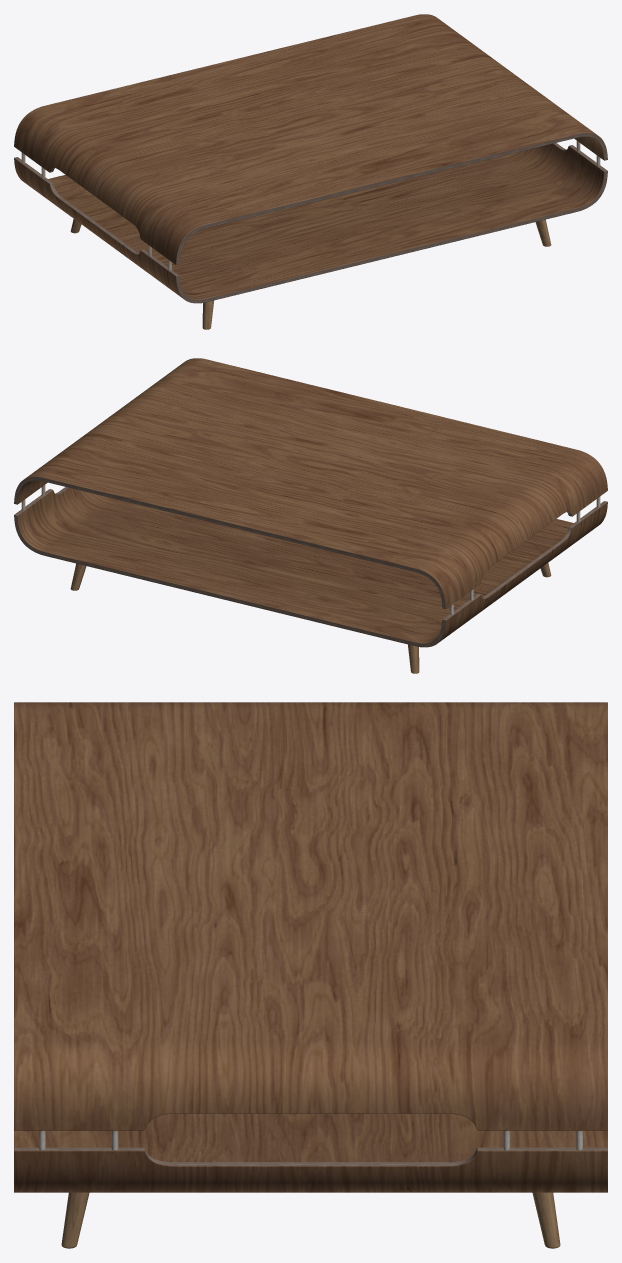
Rendered from Coffee Table2.glb.
3 renders of one model, top to bottom at view 1: azimuth 30°, elevation 25°; view 2: azimuth 150°, elevation 25°; view 3: azimuth 270°, elevation 25°, orthographic. The views are drawn at different scales.
Visible parts, largest first — view 1: RetroTable01_low_RT_RetroTable01_1002_0, RetroTable01_low_RT_RetroTable01_1003_0, RetroTable01_low_RT_RetroTable01_1001_0; view 2: RetroTable01_low_RT_RetroTable01_1002_0, RetroTable01_low_RT_RetroTable01_1003_0, RetroTable01_low_RT_RetroTable01_1001_0; view 3: RetroTable01_low_RT_RetroTable01_1002_0, RetroTable01_low_RT_RetroTable01_1003_0, RetroTable01_low_RT_RetroTable01_1001_0.
Boxes of the visible parts, x1,y1,x2,y2 form: RetroTable01_low_RT_RetroTable01_1002_0: (14,14,607,303); RetroTable01_low_RT_RetroTable01_1003_0: (33,136,604,299); RetroTable01_low_RT_RetroTable01_1001_0: (14,133,607,329); RetroTable01_low_RT_RetroTable01_1002_0: (14,358,607,647); RetroTable01_low_RT_RetroTable01_1003_0: (17,480,588,643); RetroTable01_low_RT_RetroTable01_1001_0: (14,477,607,673); RetroTable01_low_RT_RetroTable01_1002_0: (14,702,607,1192); RetroTable01_low_RT_RetroTable01_1003_0: (14,1113,607,1162); RetroTable01_low_RT_RetroTable01_1001_0: (14,1130,607,1248).
Size of the model in its own units: 1.13 by 0.2958 by 0.7324.
Materials: 3 (3 with a texture image).
